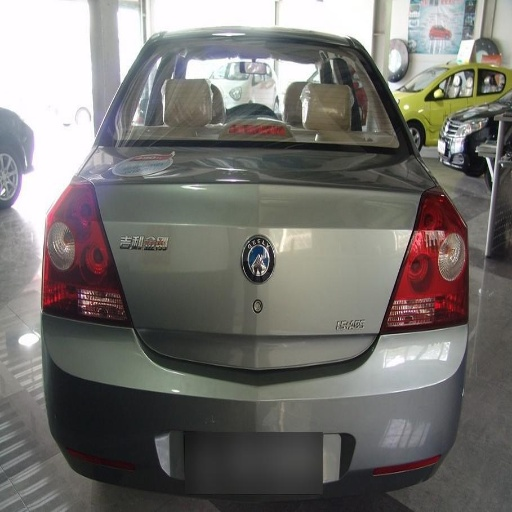back_bumper: (43, 317, 465, 492)
tailgate: (89, 144, 184, 356), (310, 280, 392, 363)
